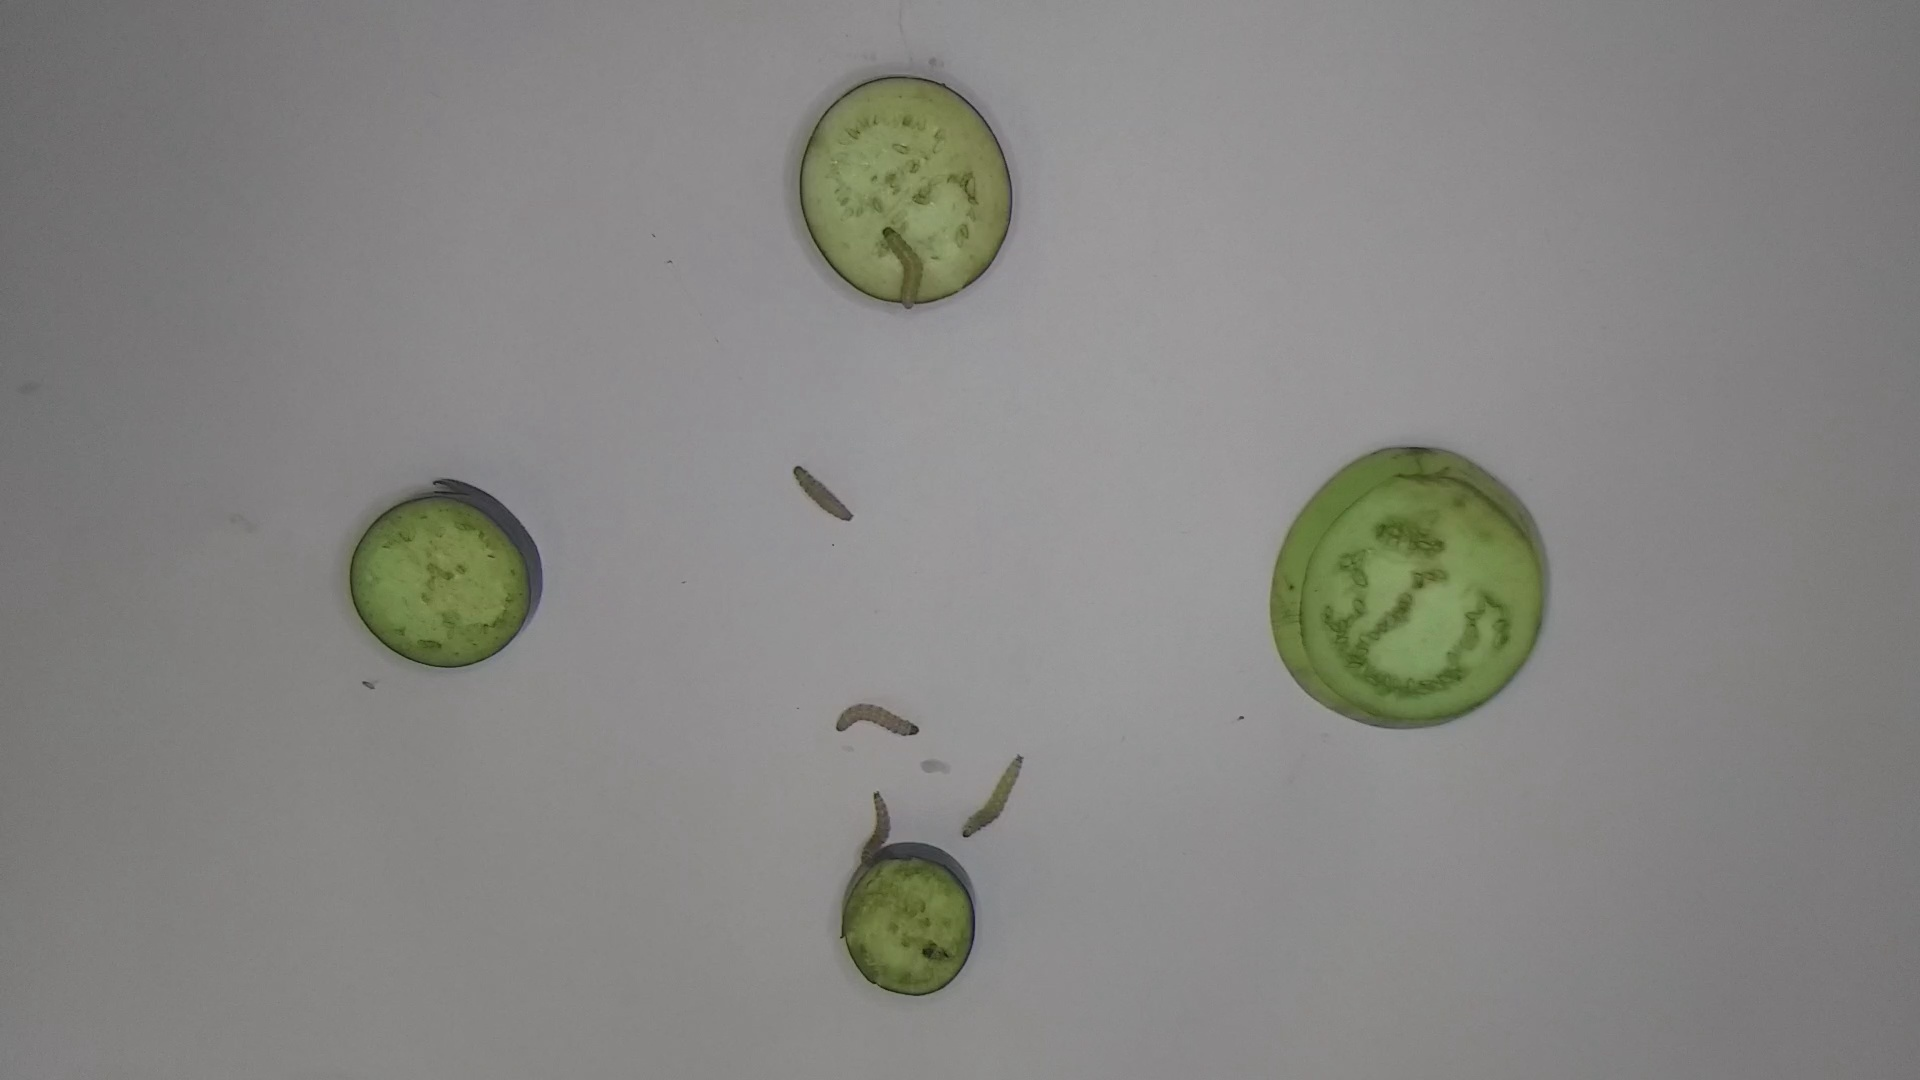efsb: (961, 750, 1033, 844), (786, 459, 862, 525), (878, 218, 927, 314), (828, 698, 927, 742), (853, 781, 894, 872)
eggplant: (1253, 436, 1557, 744), (794, 66, 1017, 313), (336, 469, 553, 670), (833, 837, 984, 1000)
